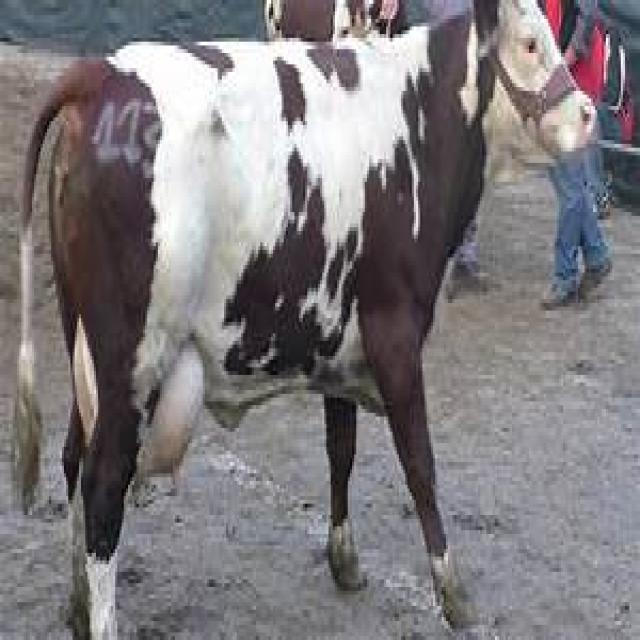animal: (11, 0, 597, 636)
